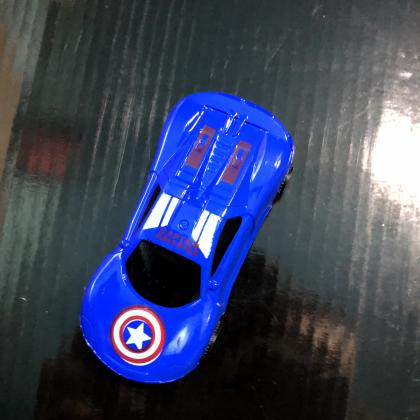Car: (79, 92, 295, 386)
